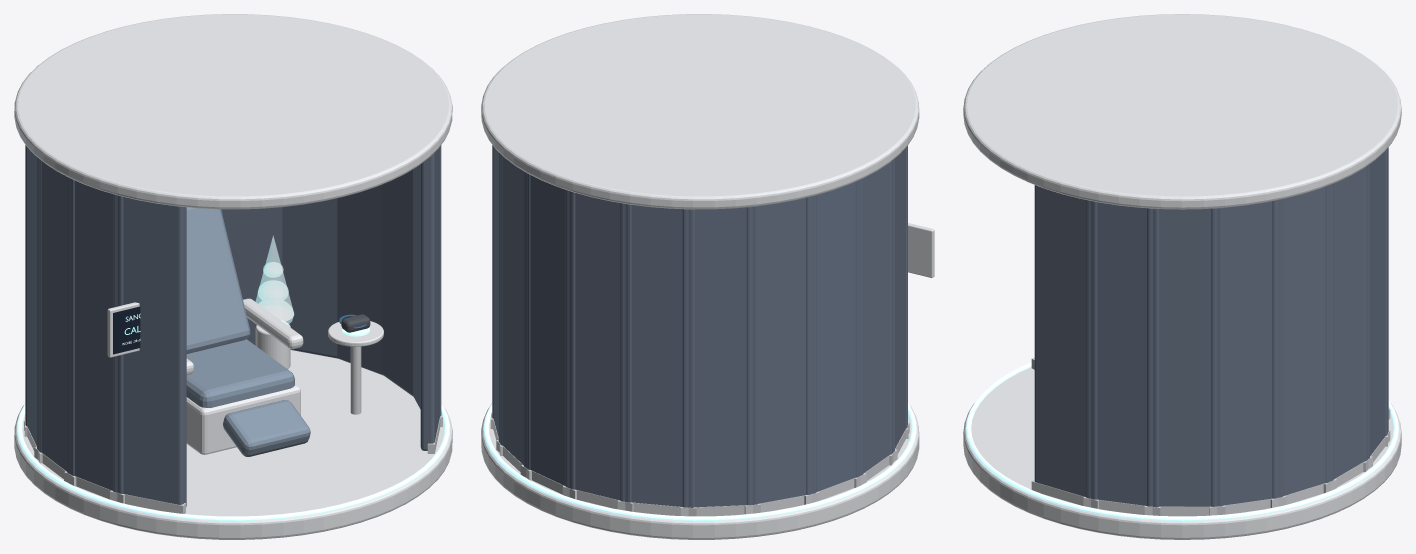
The model's file is sanctuary_pod.glb.
3 views of the same model, side by side, from view 1: azimuth 30°, elevation 25°; view 2: azimuth 150°, elevation 25°; view 3: azimuth 270°, elevation 25° (orthographic).
Parts seen in each view (by area): view 1: Roof, Platform, Acoustic_Panel.014, Acoustic_Panel.013, Acoustic_Panel.012, Acoustic_Panel.004, Recliner_Back, Acoustic_Panel.003, Acoustic_Panel.002, Acoustic_Panel, Recliner_Seat, Acoustic_Panel.005 (+15 smaller); view 2: Roof, Acoustic_Panel.009, Acoustic_Panel.008, Acoustic_Panel.010, Acoustic_Panel.007, Acoustic_Panel.011, Acoustic_Panel.006, Acoustic_Panel.012, Platform, Acoustic_Panel.005, Acoustic_Panel.013, Floor_Glow (+8 smaller); view 3: Roof, Acoustic_Panel.002, Acoustic_Panel.003, Acoustic_Panel.001, Acoustic_Panel, Acoustic_Panel.004, Platform, Acoustic_Panel.005, Acoustic_Panel.006, Floor_Glow, Acoustic_Panel.007, Panel_Foot.002 (+4 smaller).
Boxes of the visible parts, x1,y1,x2,y2 form: Roof: [14, 14, 452, 209]; Platform: [14, 350, 452, 539]; Acoustic_Panel.014: [113, 194, 186, 506]; Acoustic_Panel.013: [67, 177, 123, 493]; Acoustic_Panel.012: [37, 157, 74, 475]; Acoustic_Panel.004: [282, 198, 337, 358]; Recliner_Back: [186, 207, 250, 353]; Acoustic_Panel.003: [337, 185, 383, 375]; Acoustic_Panel.002: [382, 169, 413, 396]; Acoustic_Panel: [420, 147, 439, 450]; Recliner_Seat: [186, 339, 294, 407]; Acoustic_Panel.005: [222, 207, 282, 345]; Roof: [481, 14, 919, 209]; Acoustic_Panel.009: [682, 206, 758, 507]; Acoustic_Panel.008: [620, 203, 694, 507]; Acoustic_Panel.010: [746, 195, 816, 505]; Acoustic_Panel.007: [565, 190, 631, 502]; Acoustic_Panel.011: [806, 178, 863, 494]; Acoustic_Panel.006: [524, 171, 575, 489]; Acoustic_Panel.012: [855, 158, 894, 477]; Platform: [481, 404, 919, 539]; Acoustic_Panel.005: [498, 152, 530, 469]; Acoustic_Panel.013: [890, 146, 907, 454]; Floor_Glow: [484, 403, 916, 520]; Roof: [963, 14, 1401, 209]; Acoustic_Panel.002: [1147, 208, 1222, 506]; Acoustic_Panel.003: [1211, 199, 1283, 506]; Acoustic_Panel.001: [1086, 200, 1158, 507]; Acoustic_Panel: [1034, 185, 1097, 499]; Acoustic_Panel.004: [1272, 183, 1333, 498]; Platform: [963, 367, 1401, 539]; Acoustic_Panel.005: [1325, 164, 1369, 483]; Acoustic_Panel.006: [1364, 147, 1388, 461]; Floor_Glow: [966, 362, 1398, 520]; Acoustic_Panel.007: [1385, 148, 1387, 435]; Panel_Foot.002: [1144, 505, 1225, 516].
Bounding box in the file's own units: 2.5 × 2.16 × 2.5.
